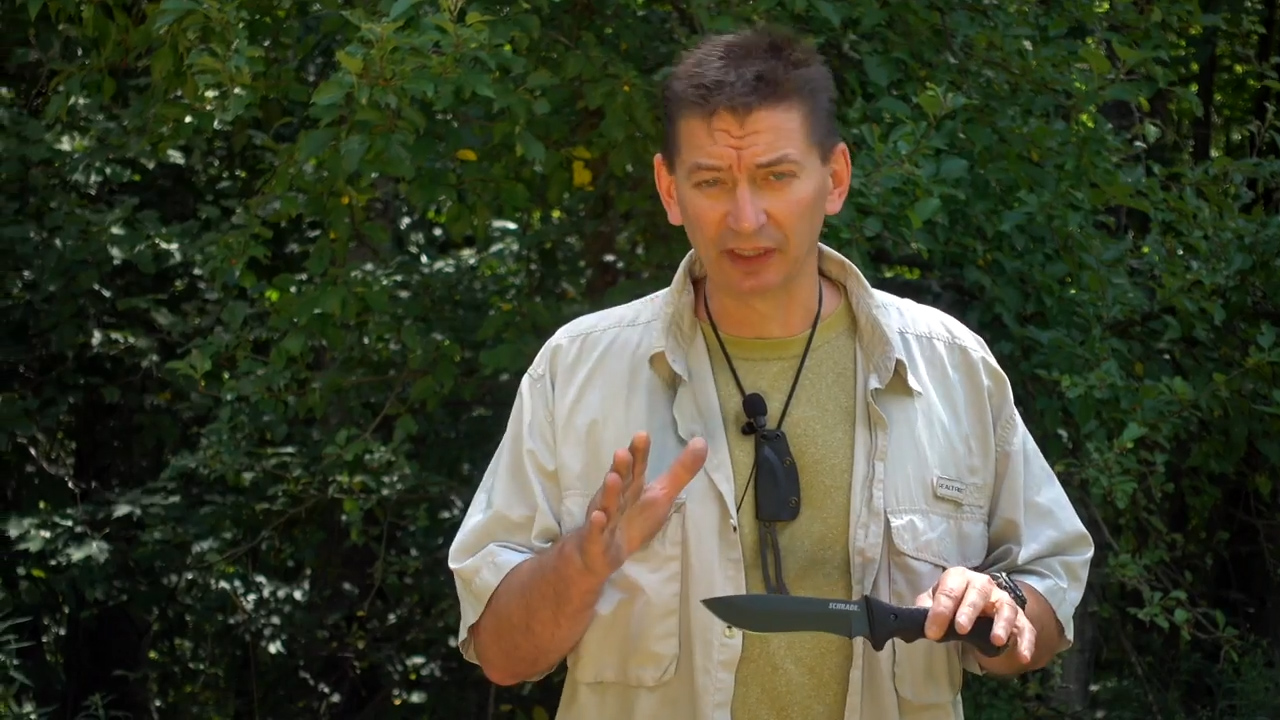knife: (696, 575, 1042, 671)
